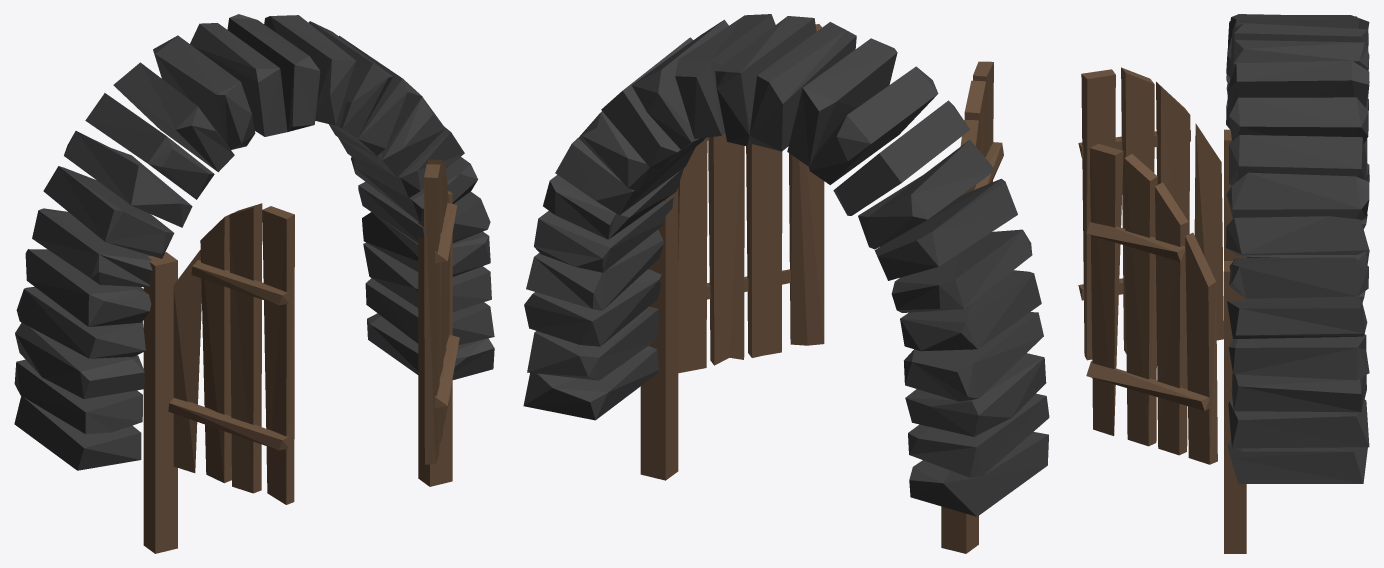
The model's file is arch-door.lod2.glb.
3 views of the same model, side by side, from view 1: azimuth 30°, elevation 25°; view 2: azimuth 150°, elevation 25°; view 3: azimuth 270°, elevation 25° (orthographic). The views are drawn at different scales.
Visible parts, largest first — view 1: Object_3; view 2: Object_3; view 3: Object_3.
Boxes of the visible parts, box(x1,y1,x2,y2) form: Object_3: box(14, 14, 494, 553); Object_3: box(523, 14, 1049, 553); Object_3: box(1078, 14, 1369, 553).
Bounding box in the file's own units: 3.28 × 3.38 × 2.02.
